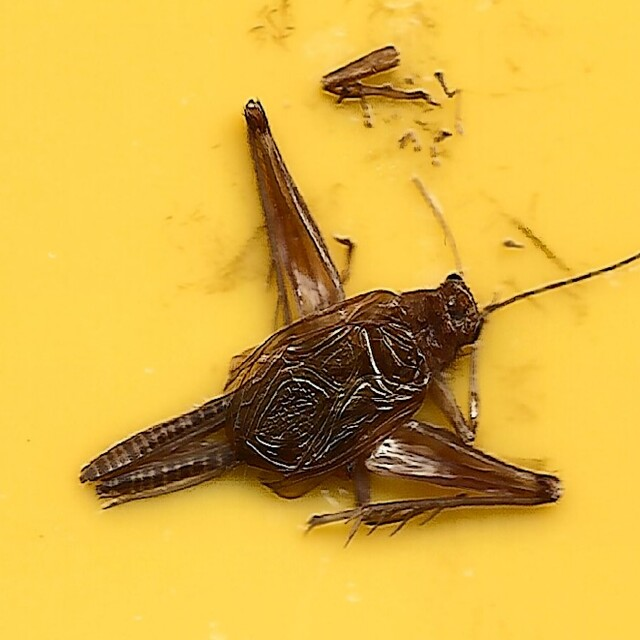Orthoptera: (72, 97, 568, 543)
